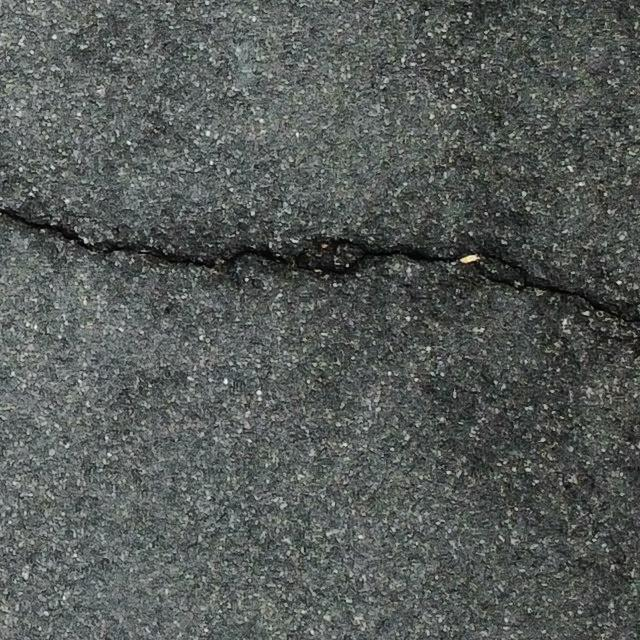TransverseCrack: (1, 206, 636, 320)
